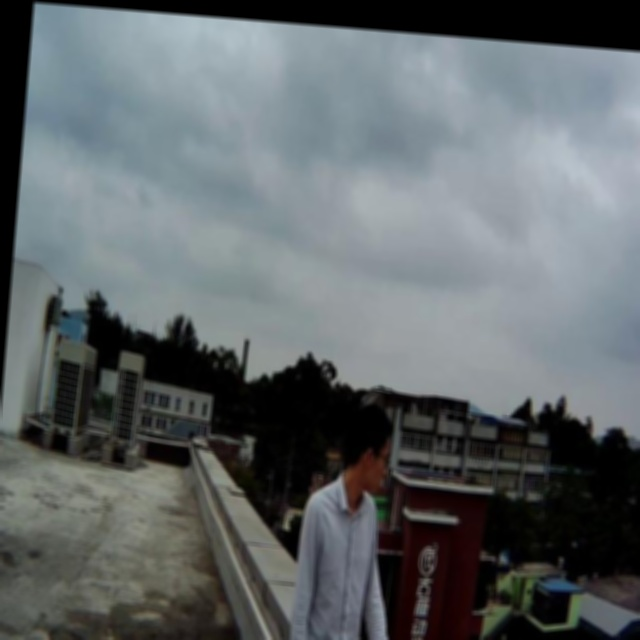Sin_Chaleco: (287, 483, 387, 640)
